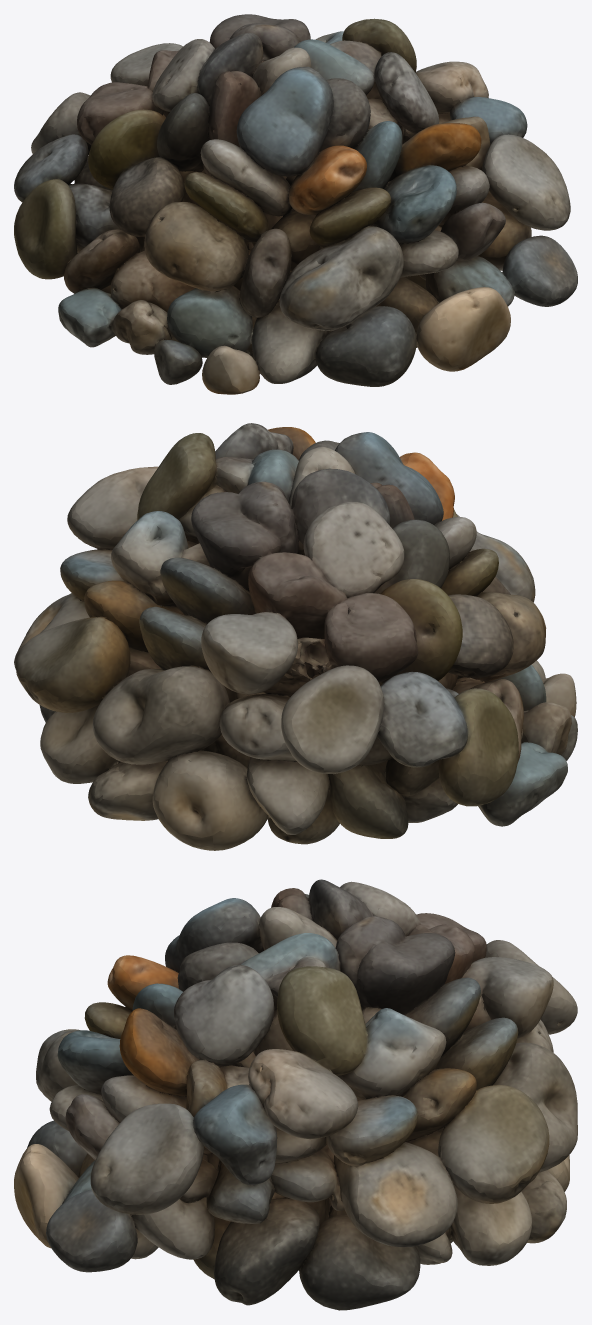
Rendered from task-4897441.glb.
3 renders of one model, top to bottom at view 1: azimuth 30°, elevation 25°; view 2: azimuth 150°, elevation 25°; view 3: azimuth 270°, elevation 25°, orthographic. The views are drawn at different scales.
Parts seen in each view (by area): view 1: world; view 2: world; view 3: world.
Boxes of the visible parts, <box> form: world: <box>14,14,577,394</box>; world: <box>14,423,577,850</box>; world: <box>14,879,577,1310</box>.
Bounding box in the file's own units: 0.35 × 0.2158 × 0.3497.
1 material, 1 textured.
